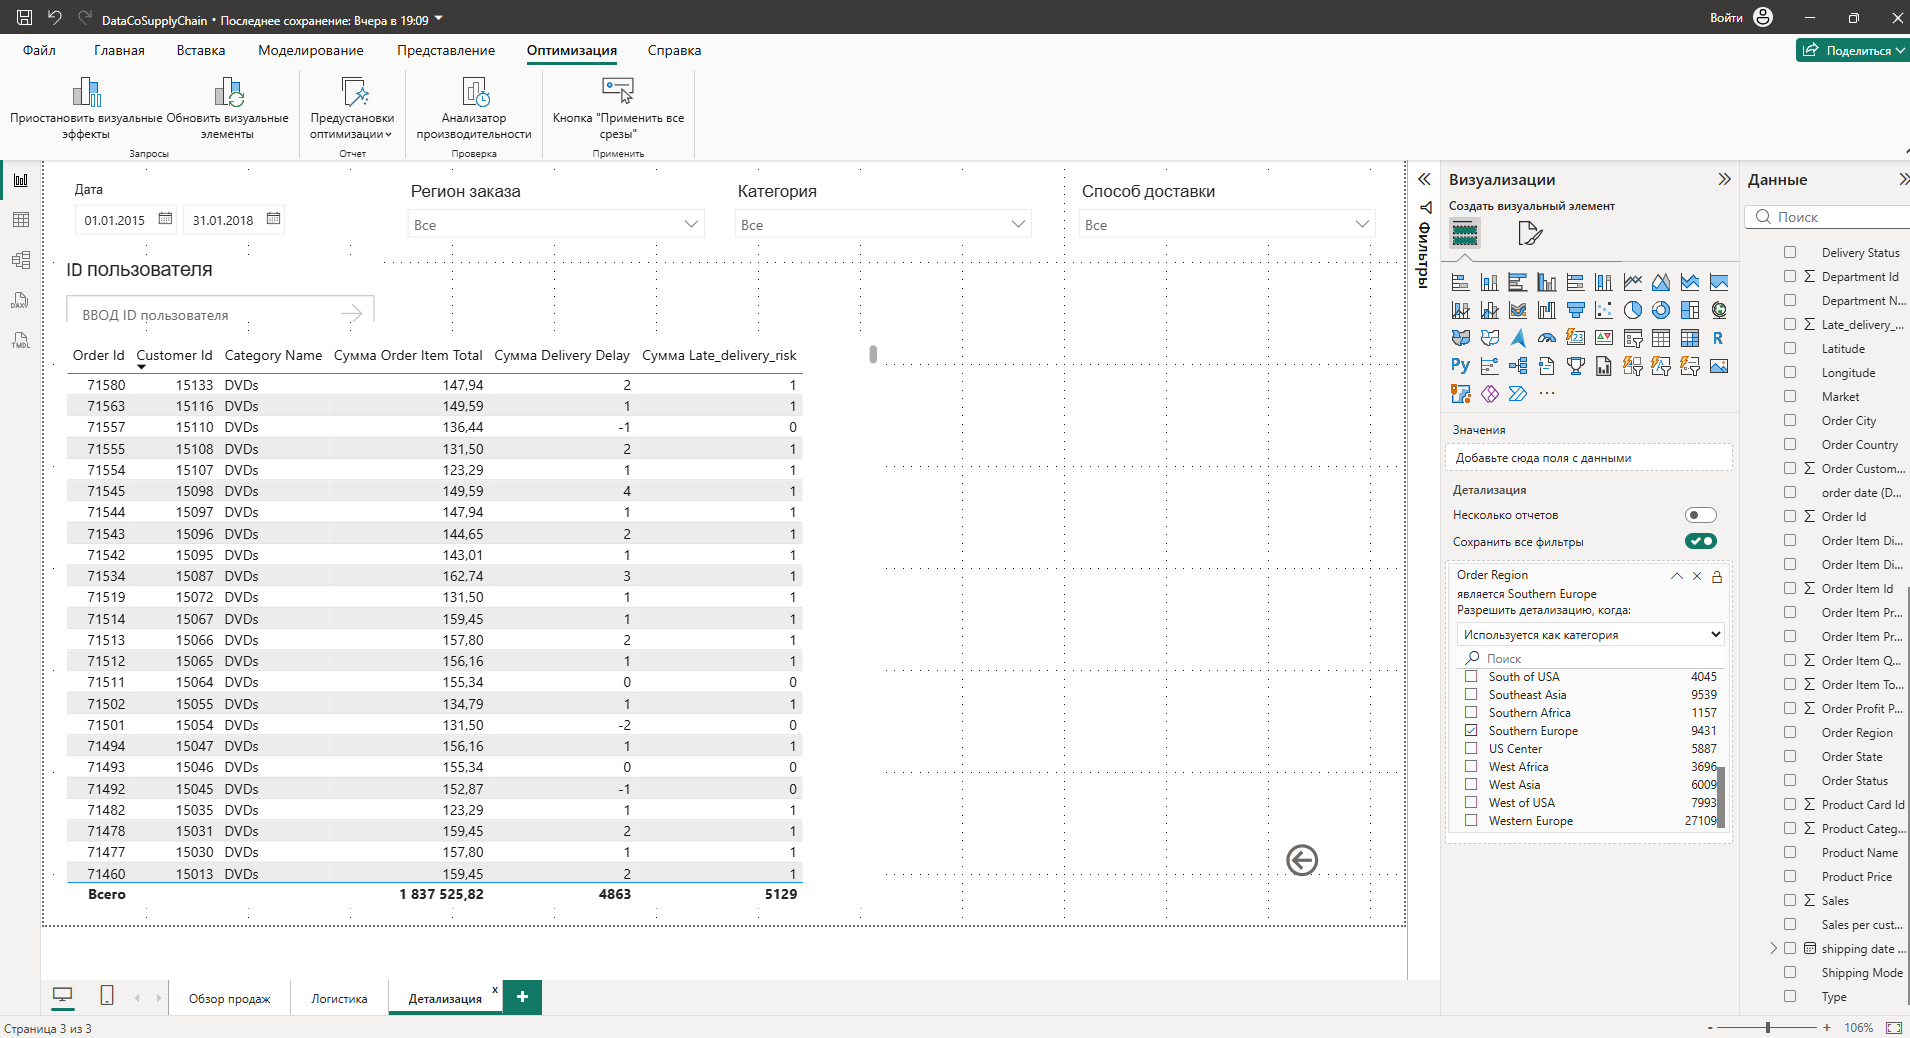

Layout of this report page (visuals, bound fields, positions):
{"tool":"powerbi","page":{"name":"Детализация","canvas":[1280,720],"ordinal":2},"visuals":[{"type":"tableEx","fields":{"Values":["DataCoSupplyChainDataset.Order Id","DataCoSupplyChainDataset.Customer Id","DataCoSupplyChainDataset.Category Name","Sum(DataCoSupplyChainDataset.Order Item Total)","Sum(DataCoSupplyChainDataset.Delivery Delay)","Sum(DataCoSupplyChainDataset.Late_delivery_risk)"]},"box":[16,168,773.7,536],"z":0},{"type":"textSlicer","fields":{"Values":["DataCoSupplyChainDataset.Customer Id"]},"box":[16,92,300,60],"z":1000},{"type":"slicer","fields":{"Values":["CalendarTable.Date"]},"box":[16,16,300,60],"z":2000},{"type":"slicer","fields":{"Values":["DataCoSupplyChainDataset.Order Region"]},"box":[332,16,300,60],"z":3000},{"type":"slicer","fields":{"Values":["DataCoSupplyChainDataset.Category Name"]},"box":[640,16,300,60],"z":4000},{"type":"slicer","fields":{"Values":["DataCoSupplyChainDataset.Shipping Mode"]},"box":[964,16,300,60],"z":5000},{"type":"actionButton","box":[1164.6,638.9,100,40],"z":6000}]}

Visuals, with their boxes on the page's 1280x720 design canvas (x1, y1, x2, y2). These are canvas units, not pixel positions in the 1910x1038 screenshot, which may show the page scaled, cropped or inside an application window:
tableEx - DataCoSupplyChainDataset.Order Id x DataCoSupplyChainDataset.Customer Id: 16,168,790,704
textSlicer - DataCoSupplyChainDataset.Customer Id: 16,92,316,152
slicer - CalendarTable.Date: 16,16,316,76
slicer - DataCoSupplyChainDataset.Order Region: 332,16,632,76
slicer - DataCoSupplyChainDataset.Category Name: 640,16,940,76
slicer - DataCoSupplyChainDataset.Shipping Mode: 964,16,1264,76
actionButton: 1165,639,1265,679
